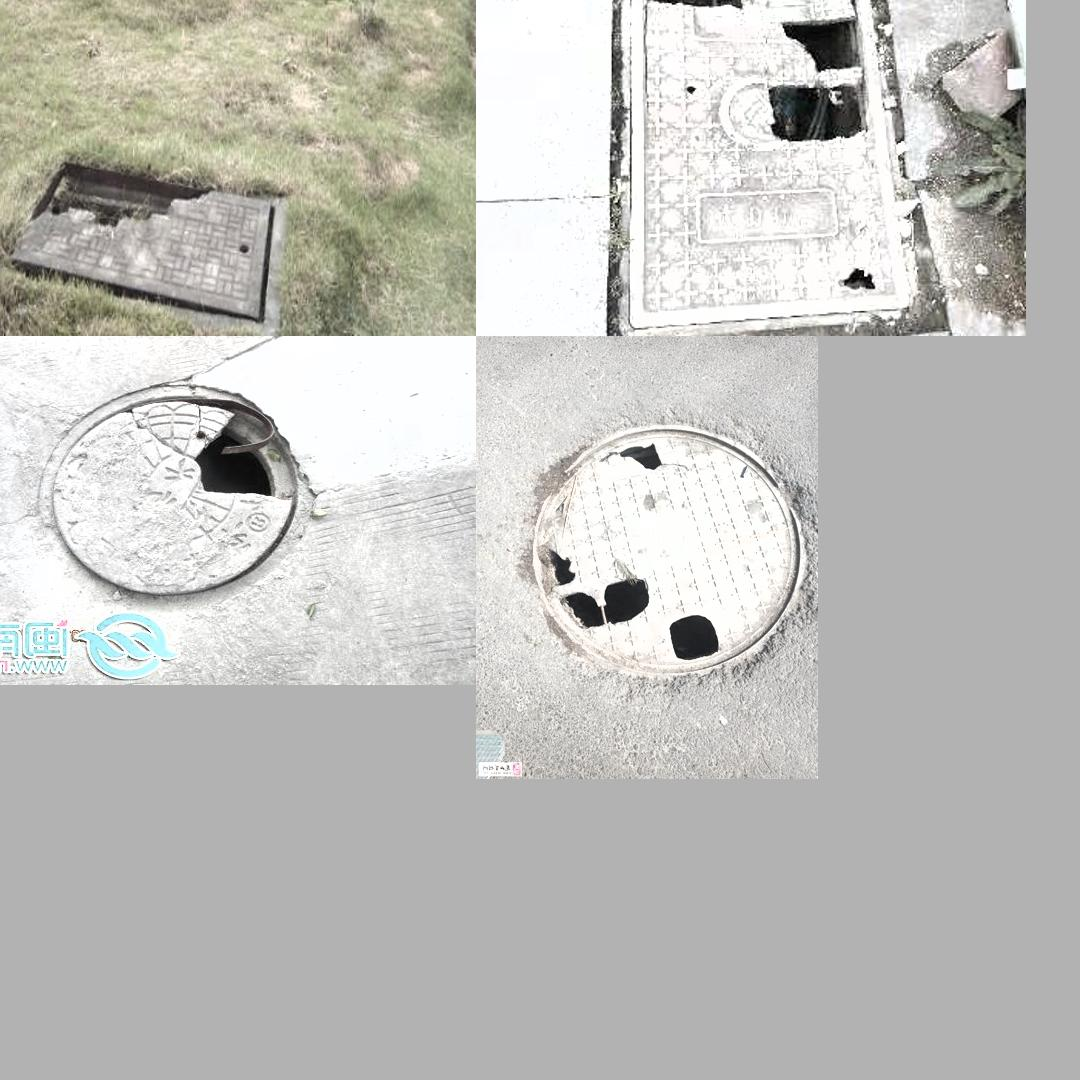broke: (619, 0, 922, 336), (511, 416, 806, 684), (35, 376, 328, 607), (7, 159, 287, 336)
